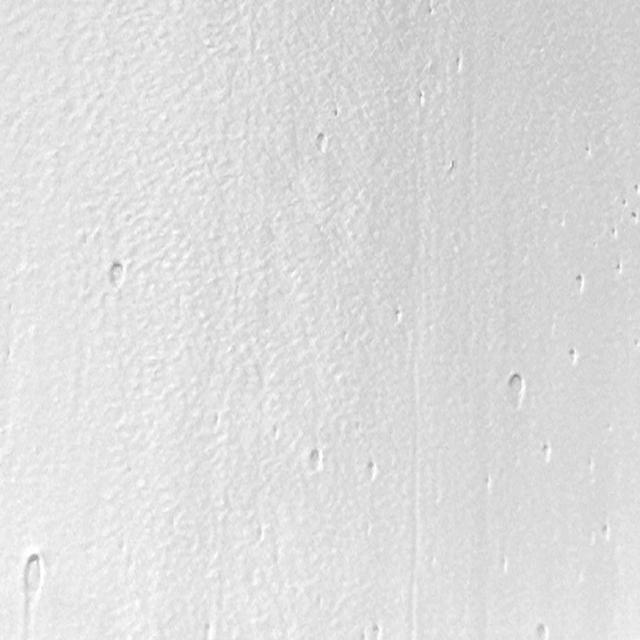pin holes: (18, 550, 50, 605), (502, 370, 528, 409), (106, 258, 129, 290), (304, 446, 324, 474), (311, 130, 330, 156), (361, 457, 380, 482), (480, 472, 497, 494), (534, 621, 552, 640), (268, 421, 284, 442), (392, 305, 407, 326), (575, 271, 588, 295), (568, 345, 582, 367), (539, 443, 553, 464), (200, 621, 215, 640), (598, 522, 612, 542), (415, 88, 428, 109), (369, 623, 384, 640), (451, 55, 464, 72), (613, 262, 624, 278), (610, 226, 620, 242), (583, 143, 594, 157), (631, 182, 639, 196), (620, 197, 630, 208), (630, 208, 638, 220), (632, 336, 638, 350)
